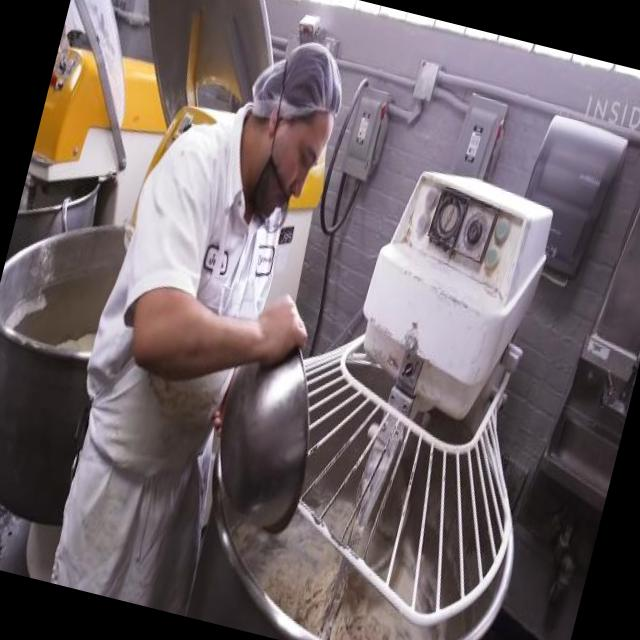hairnet: (252, 34, 351, 124)
